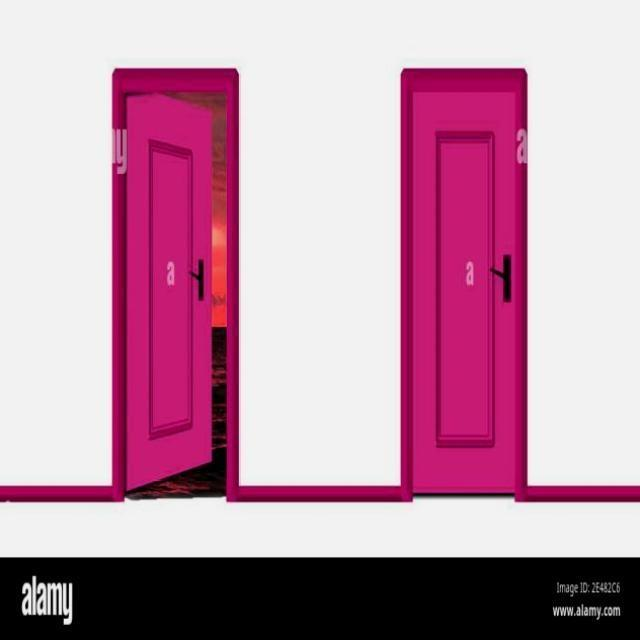door: (400, 67, 527, 495), (123, 90, 213, 492)
